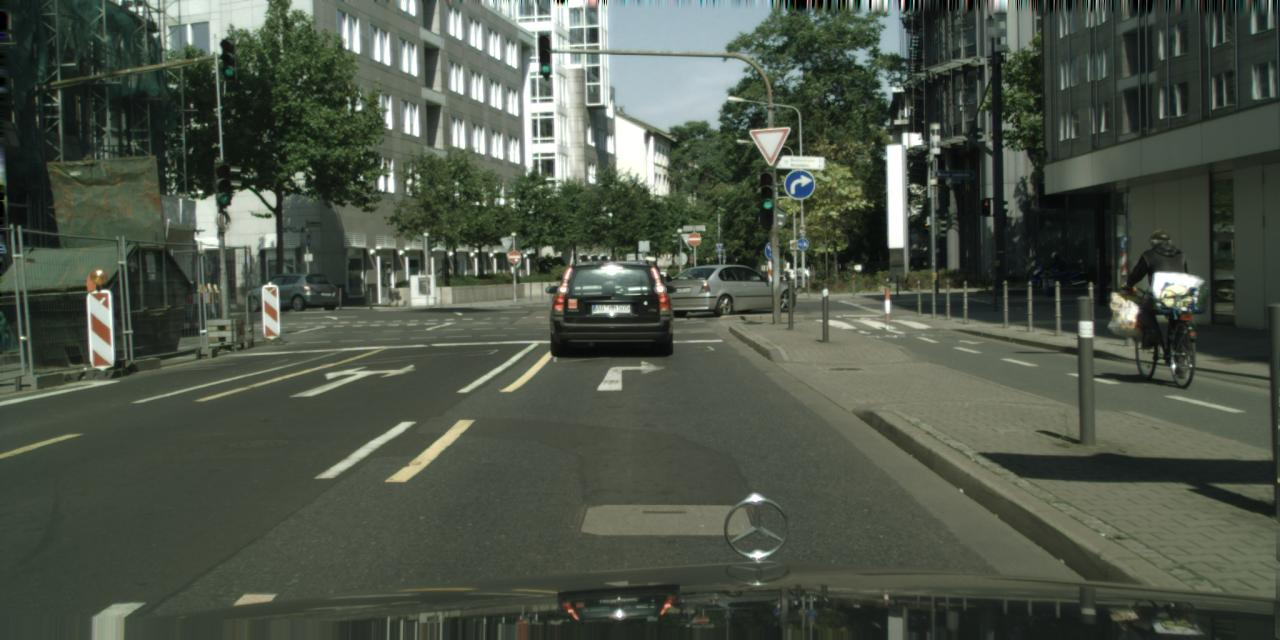ped: (1135, 228, 1189, 361), (1053, 252, 1066, 286)
